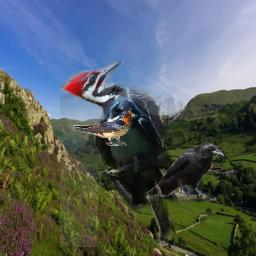Crow: (144, 142, 224, 202)
Swallow: (92, 96, 193, 217), (73, 111, 135, 146)
Woodpecker: (60, 61, 187, 247)
